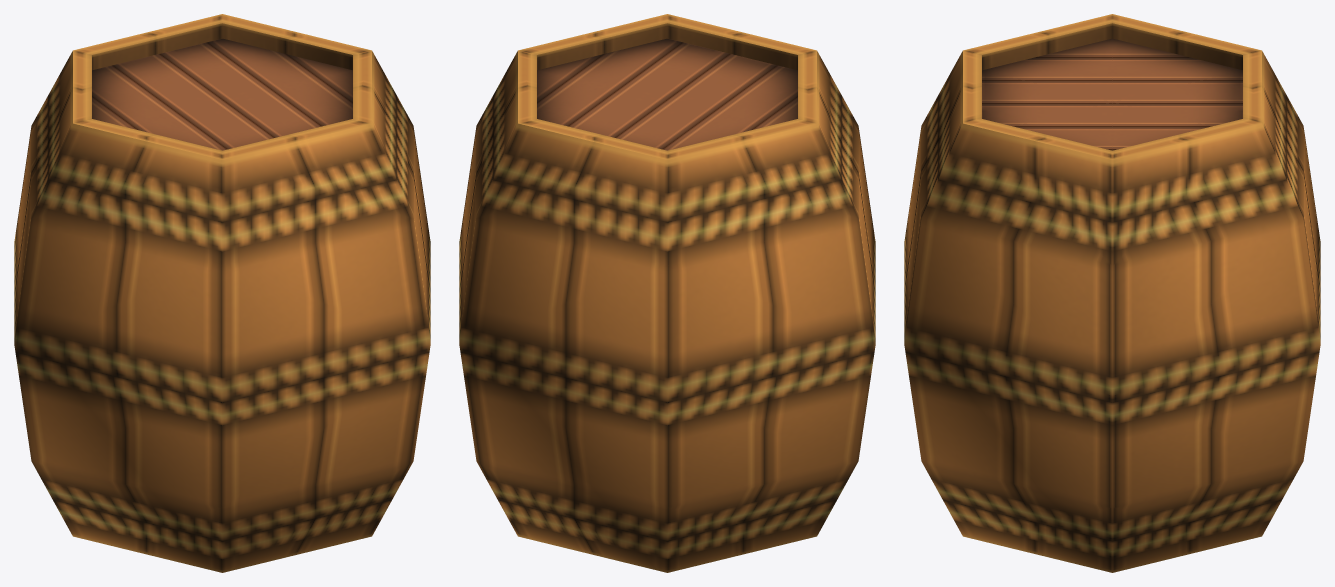
Rendered from Barrel.FBX.
The picture shows the model from 3 angles, left to right: view 1: azimuth 30°, elevation 25°; view 2: azimuth 150°, elevation 25°; view 3: azimuth 270°, elevation 25°; orthographic projection.
Parts seen in each view (by area): view 1: Barrel; view 2: Barrel; view 3: Barrel.
Boxes of the visible parts, <box> form: Barrel: <box>14,14,430,572</box>; Barrel: <box>459,14,875,572</box>; Barrel: <box>904,14,1320,572</box>.
Bounding box in the file's own units: 134 × 127 × 116.
